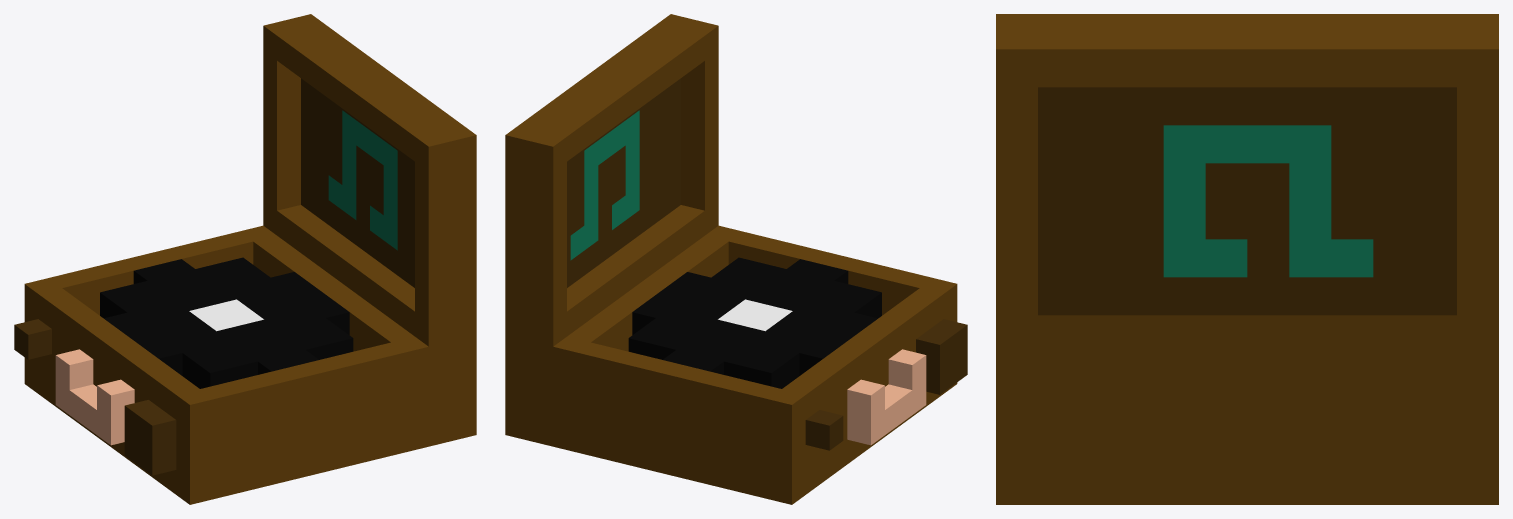
The model's file is RecordPlayer.obj.
The picture shows the model from 3 angles, left to right: view 1: azimuth 30°, elevation 25°; view 2: azimuth 150°, elevation 25°; view 3: azimuth 270°, elevation 25°; orthographic projection. The views are drawn at different scales.
Parts seen in each view (by area): view 1: RecordPlayer; view 2: RecordPlayer; view 3: RecordPlayer.
Boxes of the visible parts, <box> form: RecordPlayer: <box>14,14,476,504</box>; RecordPlayer: <box>505,14,967,504</box>; RecordPlayer: <box>996,14,1498,504</box>.
Size of the model in its own units: 13 by 12 by 12.
1 material, 1 textured.
